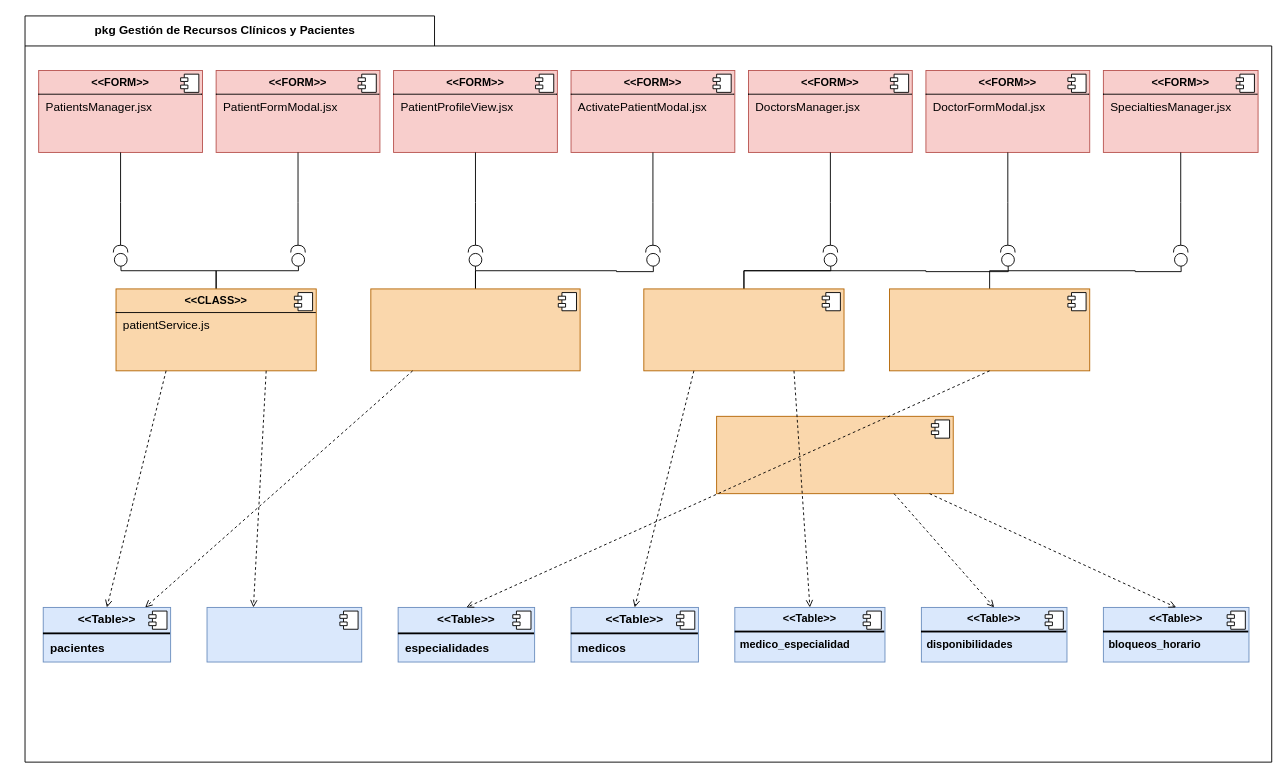
Some shapes in this 1288 by 778 pixel diagram are drawn without their labels. Each missing label, with the centre of its shape:
<<CLASS>> DoctorAvailabilityService.php: [834,454]
<<CLASS>> doctorService.js: [743,329]
<<CLASS>> patientProfileService.js: [475,329]
<<CLASS>> specialtyService.js: [989,329]
<<Table>> contactos_emergencia: [284,634]
